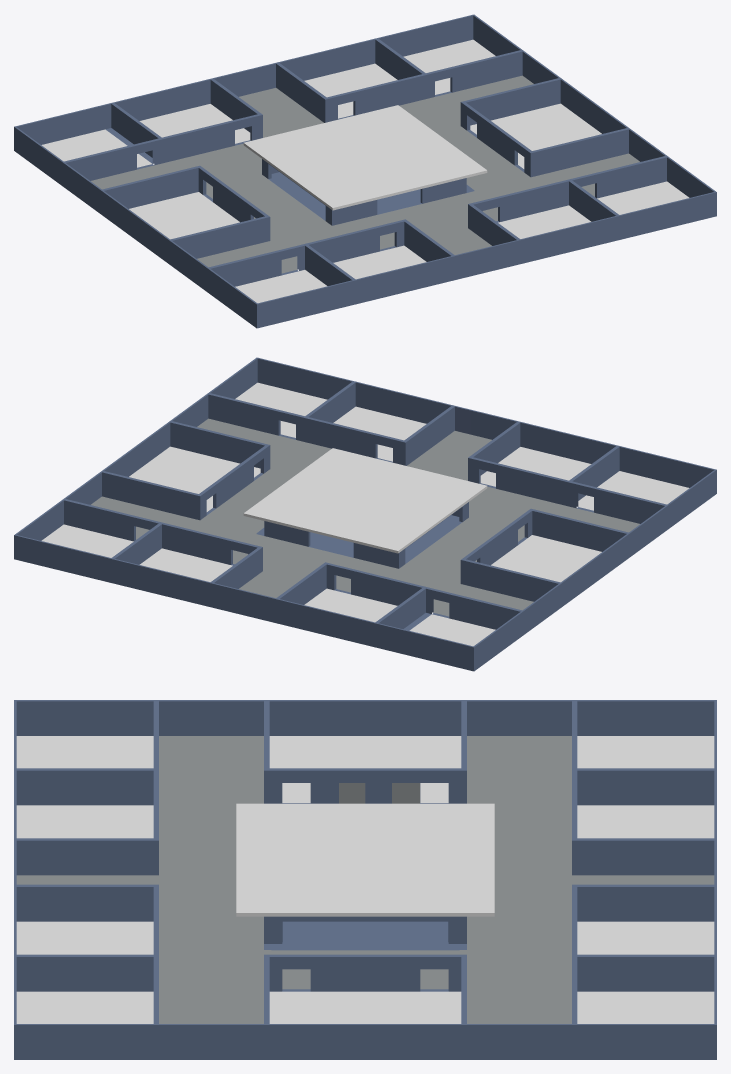
Rendered from escola9.fbx.
The picture shows the model from 3 angles, top to bottom: view 1: azimuth 30°, elevation 25°; view 2: azimuth 150°, elevation 25°; view 3: azimuth 270°, elevation 25°; orthographic projection. The views are drawn at different scales.
Visible parts, largest first — view 1: Plane, Cube; view 2: Plane, Cube; view 3: Plane, Cube.
Boxes of the visible parts, left/top/right/bottom form: Plane: left=14, top=14, right=716, bottom=328; Cube: left=243, top=105, right=487, bottom=210; Plane: left=14, top=357, right=716, bottom=671; Cube: left=243, top=448, right=487, bottom=553; Plane: left=14, top=700, right=716, bottom=1059; Cube: left=236, top=803, right=494, bottom=916.
Bounding box in the file's own units: 7000 × 392 × 6400.
